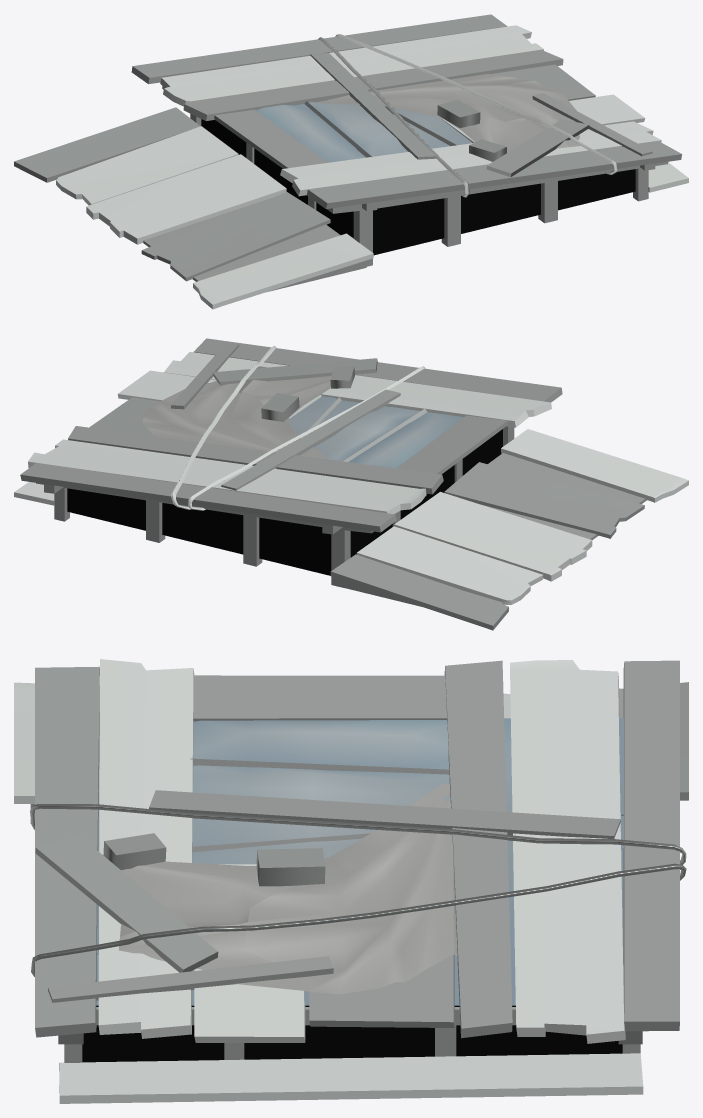
3 renders of one model, top to bottom at view 1: azimuth 30°, elevation 25°; view 2: azimuth 150°, elevation 25°; view 3: azimuth 270°, elevation 25°, orthographic. The views are drawn at different scales.
Visible parts, largest first — view 1: G:\FFXIV-MapTools\exports\n4f2\bg\ex3\01_nvt_n4\fld\n4f2\bgp (×7); view 2: G:\FFXIV-MapTools\exports\n4f2\bg\ex3\01_nvt_n4\fld\n4f2\bgp (×7); view 3: G:\FFXIV-MapTools\exports\n4f2\bg\ex3\01_nvt_n4\fld\n4f2\bgp (×7).
Boxes of the visible parts, x1,y1,x2,y2 form: G:\FFXIV-MapTools\exports\n4f2\bg\ex3\01_nvt_n4\fld\n4f2\bgp (×7): [14, 14, 688, 309]; G:\FFXIV-MapTools\exports\n4f2\bg\ex3\01_nvt_n4\fld\n4f2\bgp (×7): [14, 338, 688, 630]; G:\FFXIV-MapTools\exports\n4f2\bg\ex3\01_nvt_n4\fld\n4f2\bgp (×7): [14, 659, 688, 1103].
Size of the model in its own units: 11.56 by 1.88 by 8.03.
